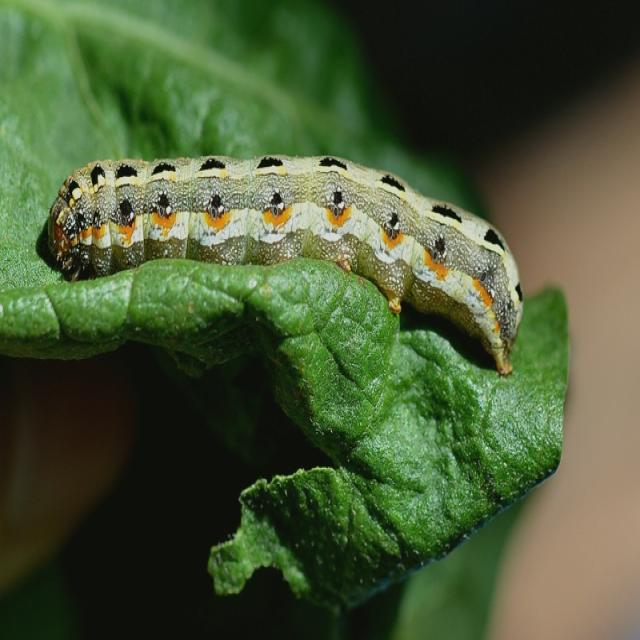armyworm: (46, 151, 524, 378)
